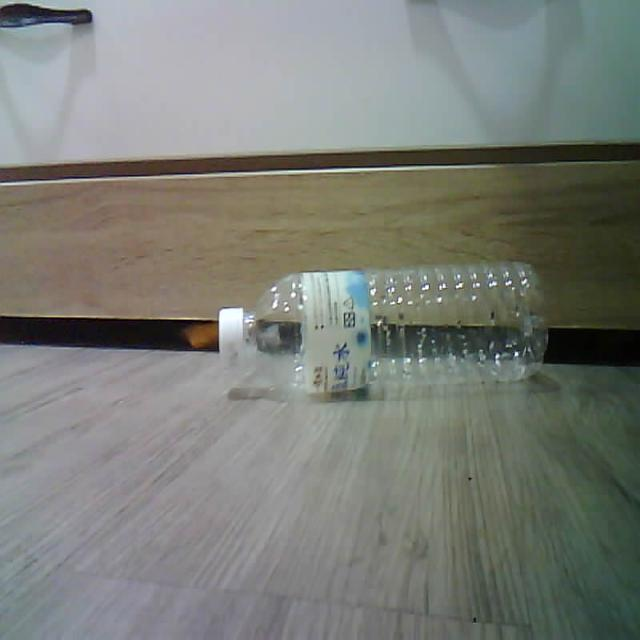bottle: (219, 262, 546, 396)
